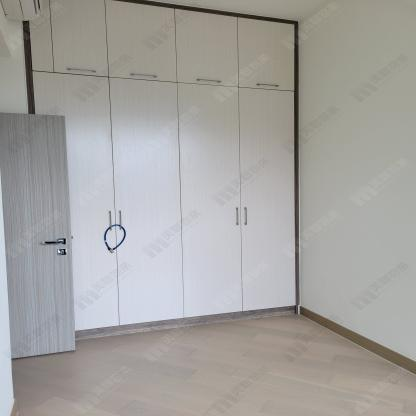Closet: (25, 0, 306, 340)
